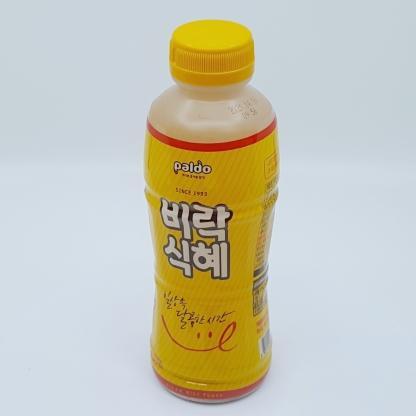------500ML: (143, 19, 279, 404)
